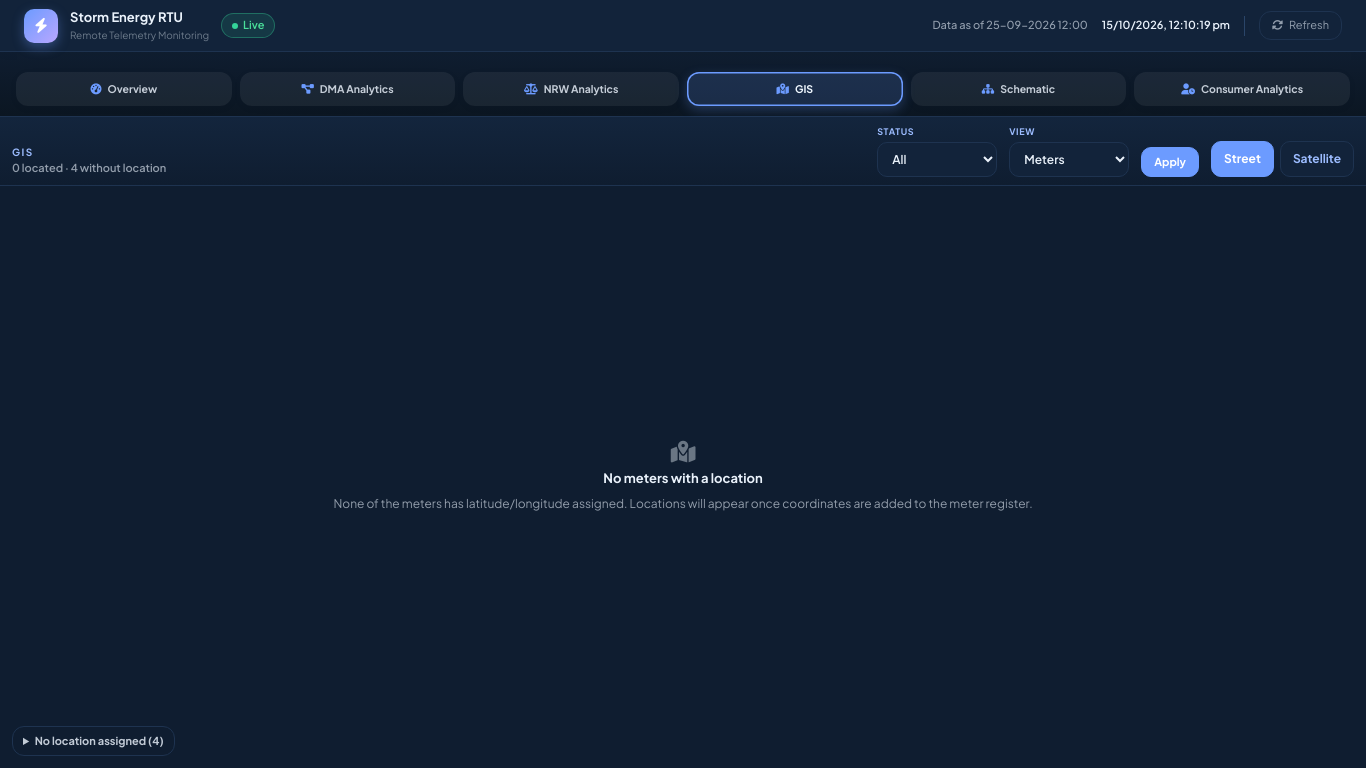
it: other routes › GIS: meters without valid coordinates (NULL or 0,0) are listed, never plotted at a default
Expected: the element with test id "gis-empty" is shown, [333,441,1032,510]
Click the heading "No location assigned (4)". click: (93, 741)
box: [23,732,164,749]
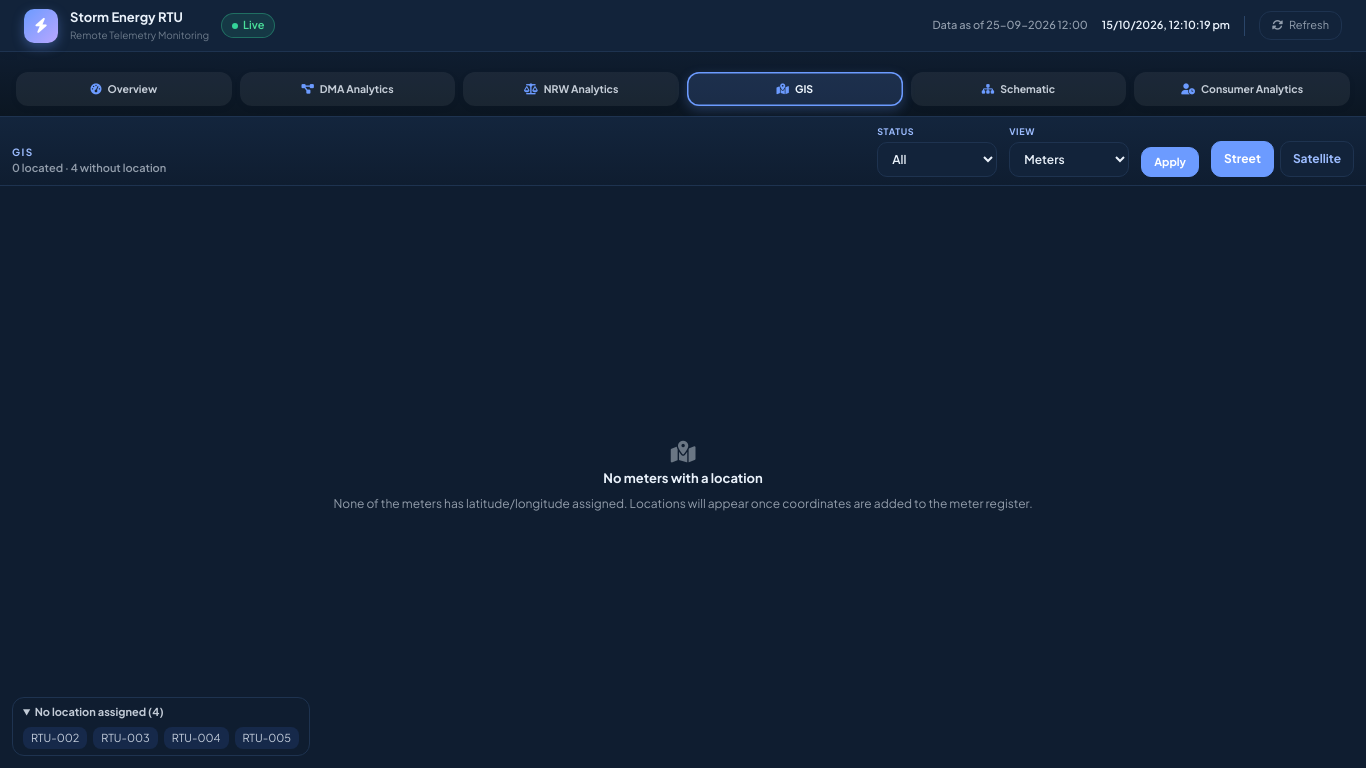
Result: the text "RTU-002" is shown 4 times at [23,726,87,749]; [93,726,158,749]; [164,726,228,749]; [234,726,299,749]
